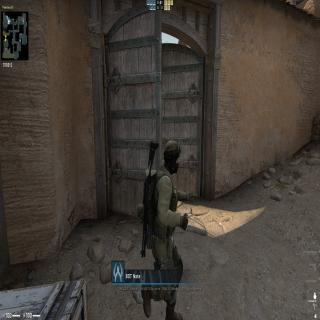CT-Head: (163, 139, 181, 176)
